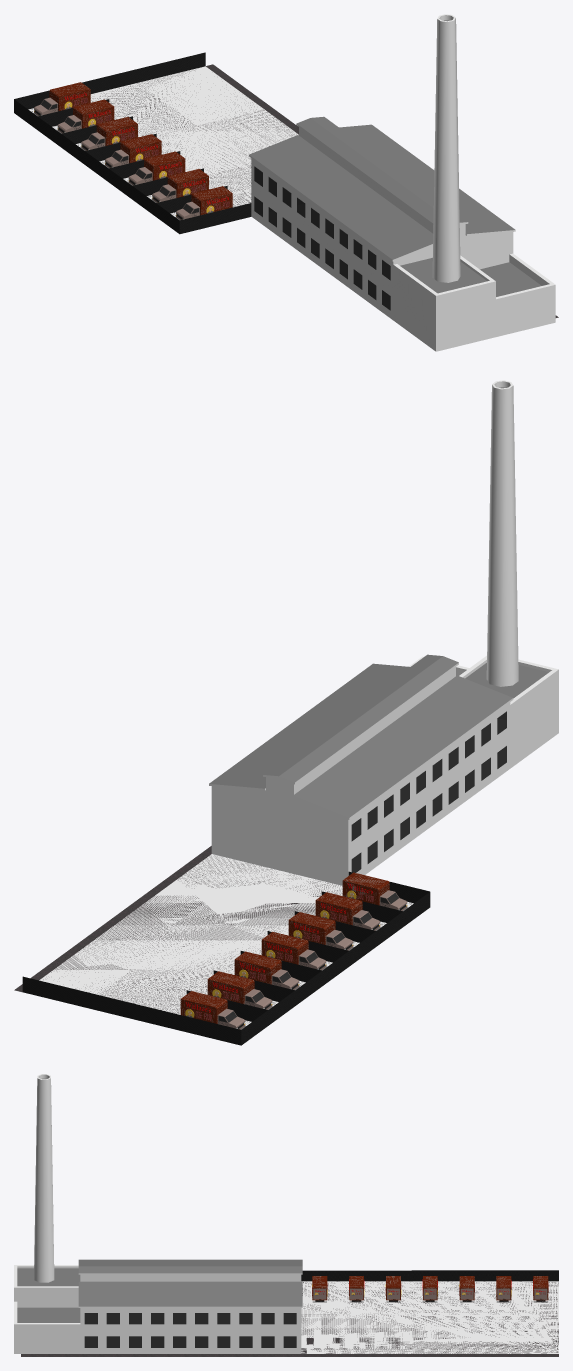
The model's file is Factory001.dae.
3 renders of one model, top to bottom at view 1: azimuth 30°, elevation 25°; view 2: azimuth 150°, elevation 25°; view 3: azimuth 270°, elevation 25°, orthographic. The views are drawn at different scales.
Visible parts, largest first — view 1: Industrial_factory (×7), SketchUp (×3), Delivery_truck (×7); view 2: Industrial_factory (×6), SketchUp (×3), Delivery_truck (×7); view 3: Industrial_factory (×7), SketchUp (×3).
Boxes of the visible parts, bbox=[...] form: Industrial_factory (×7): bbox=[249, 14, 555, 351]; SketchUp (×3): bbox=[14, 52, 558, 317]; Delivery_truck (×7): bbox=[49, 82, 232, 215]; Industrial_factory (×6): bbox=[209, 380, 558, 885]; SketchUp (×3): bbox=[14, 846, 430, 1045]; Delivery_truck (×7): bbox=[180, 872, 389, 1023]; Industrial_factory (×7): bbox=[14, 1074, 302, 1353]; SketchUp (×3): bbox=[21, 1270, 558, 1356].
Size of the model in its own units: 1166 by 3552 by 1747.
20 materials, 3 textured.
